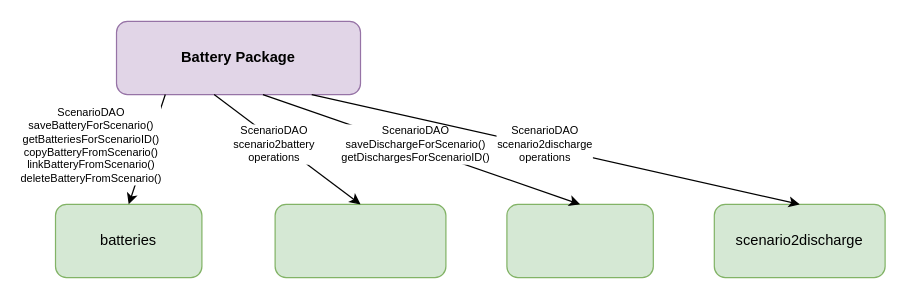
Image size: 908x299. Some labels were removed from this diagram. The centre of each missing label's shape, as x and y in pixels:
"discharge2grid" belongs at (579,240).
"scenario2battery" belongs at (360,240).
